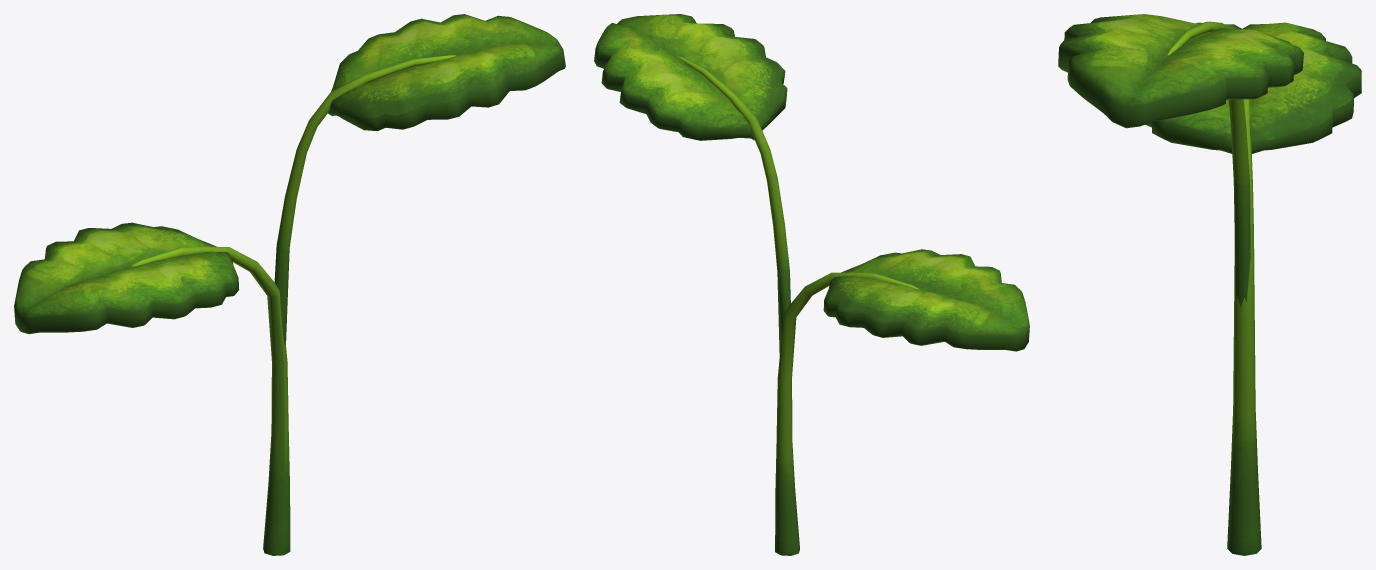
File: FolhaOndulada.fbx
3 views of the same model, side by side, from view 1: azimuth 30°, elevation 25°; view 2: azimuth 150°, elevation 25°; view 3: azimuth 270°, elevation 25° (orthographic). The views are drawn at different scales.
Parts seen in each view (by area): view 1: Folhas3; view 2: Folhas3; view 3: Folhas3.
Boxes of the visible parts, x1=… form: Folhas3: x1=14, y1=14, x2=565, y2=555; Folhas3: x1=594, y1=14, x2=1029, y2=555; Folhas3: x1=1058, y1=14, x2=1361, y2=555.
Size of the model in its own units: 349 by 331 by 151.
